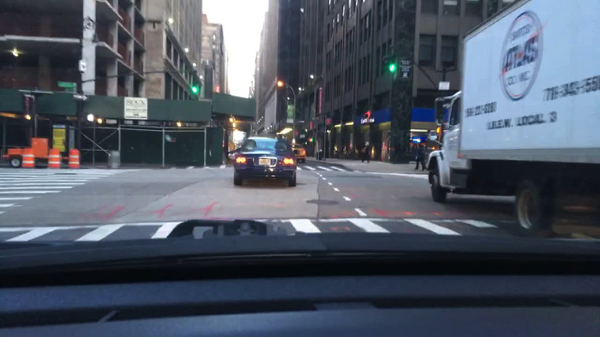car: (235, 136, 298, 187), (289, 138, 307, 163)
person: (416, 140, 428, 170), (361, 140, 372, 161)
traffic light: (388, 56, 395, 74), (192, 77, 198, 95), (85, 113, 95, 122), (435, 126, 441, 135)
traffic sign: (71, 92, 89, 102), (439, 81, 450, 92), (58, 81, 78, 87)
truck: (427, 0, 600, 232)
